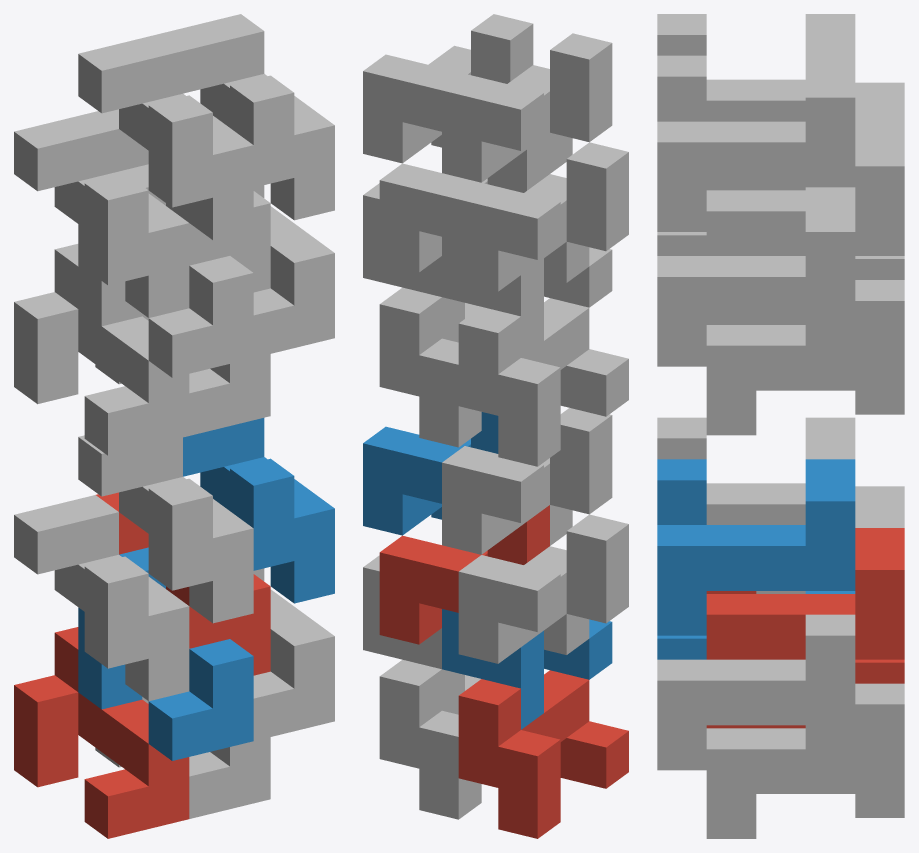
File: tiling.obj
3 renders of one model, left to right at view 1: azimuth 30°, elevation 25°; view 2: azimuth 150°, elevation 25°; view 3: azimuth 270°, elevation 25°, orthographic. The views are drawn at different scales.
Visible parts, largest first — view 1: copy_2_domain_1, copy_2_domain_3, copy_2_domain_4, copy_1_domain_1, copy_1_domain_3, copy_2_domain_2, copy_2_domain_8, copy_2_domain_6, copy_1_domain_4, copy_1_domain_2, copy_1_domain_6, copy_1_domain_8 (+4 smaller); view 2: copy_1_domain_1, copy_1_domain_3, copy_2_domain_1, copy_2_domain_3, copy_2_domain_4, copy_2_domain_2, copy_2_domain_8, copy_1_domain_5, copy_1_domain_7, copy_2_domain_5, copy_2_domain_7, copy_2_domain_6 (+4 smaller); view 3: copy_2_domain_8, copy_2_domain_6, copy_1_domain_6, copy_1_domain_8, copy_1_domain_7, copy_1_domain_5, copy_2_domain_7, copy_2_domain_5, copy_2_domain_4, copy_2_domain_2, copy_2_domain_3, copy_2_domain_1 (+4 smaller).
Part boxes in pixels (<box>): copy_2_domain_1: <box>14,495,189,701</box>; copy_2_domain_3: <box>14,111,189,317</box>; copy_2_domain_4: <box>78,34,253,239</box>; copy_1_domain_1: <box>14,627,189,838</box>; copy_1_domain_3: <box>14,244,189,455</box>; copy_2_domain_2: <box>78,435,253,623</box>; copy_2_domain_8: <box>160,14,334,220</box>; copy_2_domain_6: <box>183,418,334,603</box>; copy_1_domain_4: <box>78,164,253,377</box>; copy_1_domain_2: <box>78,547,253,760</box>; copy_1_domain_6: <box>253,568,334,740</box>; copy_1_domain_8: <box>253,185,334,357</box>; copy_1_domain_1: <box>458,670,628,838</box>; copy_1_domain_3: <box>458,298,628,466</box>; copy_2_domain_1: <box>458,514,628,663</box>; copy_2_domain_3: <box>458,142,628,291</box>; copy_2_domain_4: <box>442,33,612,182</box>; copy_2_domain_2: <box>442,408,612,554</box>; copy_2_domain_8: <box>363,14,533,163</box>; copy_1_domain_5: <box>379,659,481,819</box>; copy_1_domain_7: <box>379,287,481,447</box>; copy_2_domain_5: <box>379,505,549,644</box>; copy_2_domain_7: <box>379,133,549,272</box>; copy_2_domain_6: <box>363,412,498,535</box>; copy_2_domain_8: <box>657,55,855,231</box>; copy_2_domain_6: <box>657,459,855,635</box>; copy_1_domain_6: <box>657,614,855,770</box>; copy_1_domain_8: <box>657,211,855,366</box>; copy_1_domain_7: <box>706,280,904,435</box>; copy_1_domain_5: <box>706,683,904,838</box>; copy_2_domain_7: <box>706,124,904,255</box>; copy_2_domain_5: <box>706,528,904,659</box>; copy_2_domain_4: <box>657,14,855,121</box>; copy_2_domain_2: <box>657,417,855,524</box>; copy_2_domain_3: <box>756,82,904,190</box>; copy_2_domain_1: <box>756,486,904,593</box>.
Bounding box in the file's own units: 5 × 17 × 5.
